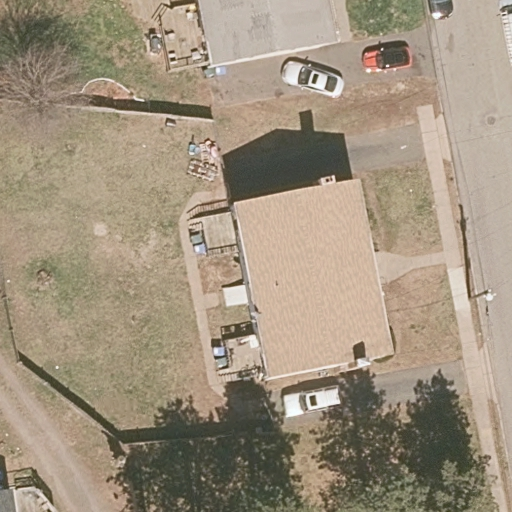DT: (468, 287, 497, 317)
